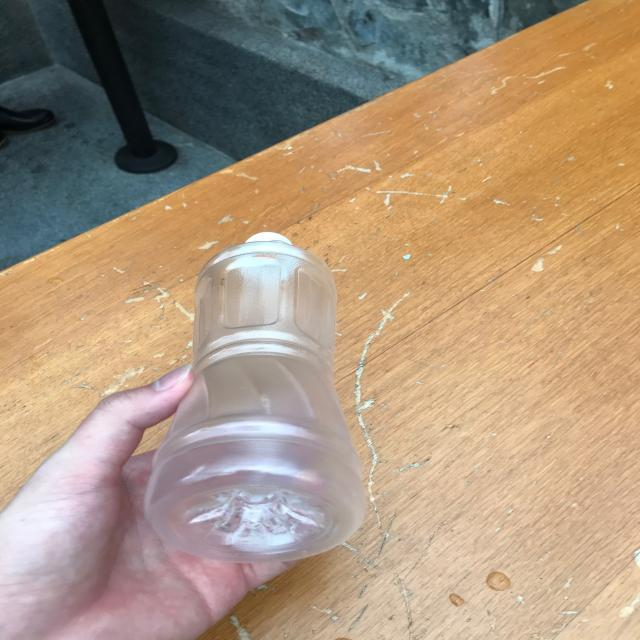plastic_bottle: (145, 232, 365, 563)
